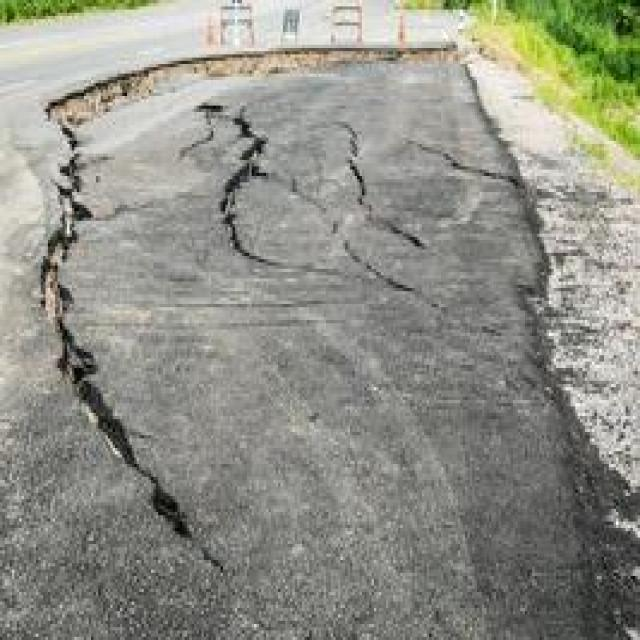road collapse: (24, 8, 640, 640)
